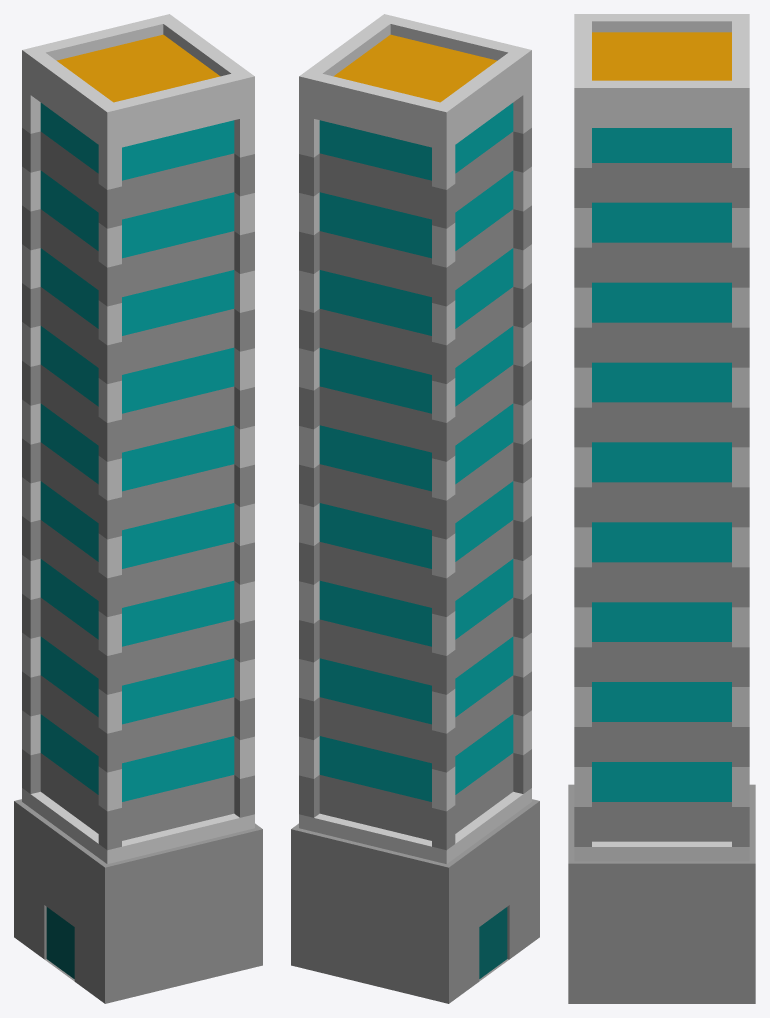
The picture shows the model from 3 angles, left to right: view 1: azimuth 30°, elevation 25°; view 2: azimuth 150°, elevation 25°; view 3: azimuth 270°, elevation 25°; orthographic projection. The views are drawn at different scales.
Visible parts, largest first — view 1: pCube1, pCube3; view 2: pCube1, pCube3; view 3: pCube1, pCube3.
Part boxes in pixels (<box>): pCube1: <box>22,14,254,863</box>; pCube3: <box>14,799,262,1003</box>; pCube1: <box>299,14,531,863</box>; pCube3: <box>291,799,539,1003</box>; pCube1: <box>574,14,749,861</box>; pCube3: <box>568,784,755,1003</box>.
Bounding box in the file's own units: 123 × 664 × 123.
